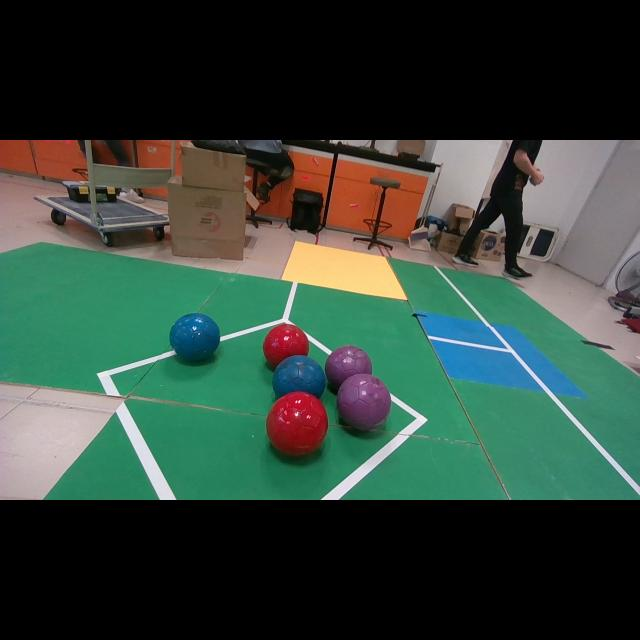B: (170, 314, 220, 361), (272, 355, 326, 398)
P: (336, 374, 391, 430), (325, 345, 371, 390)
R: (266, 391, 328, 456), (262, 324, 309, 368)
